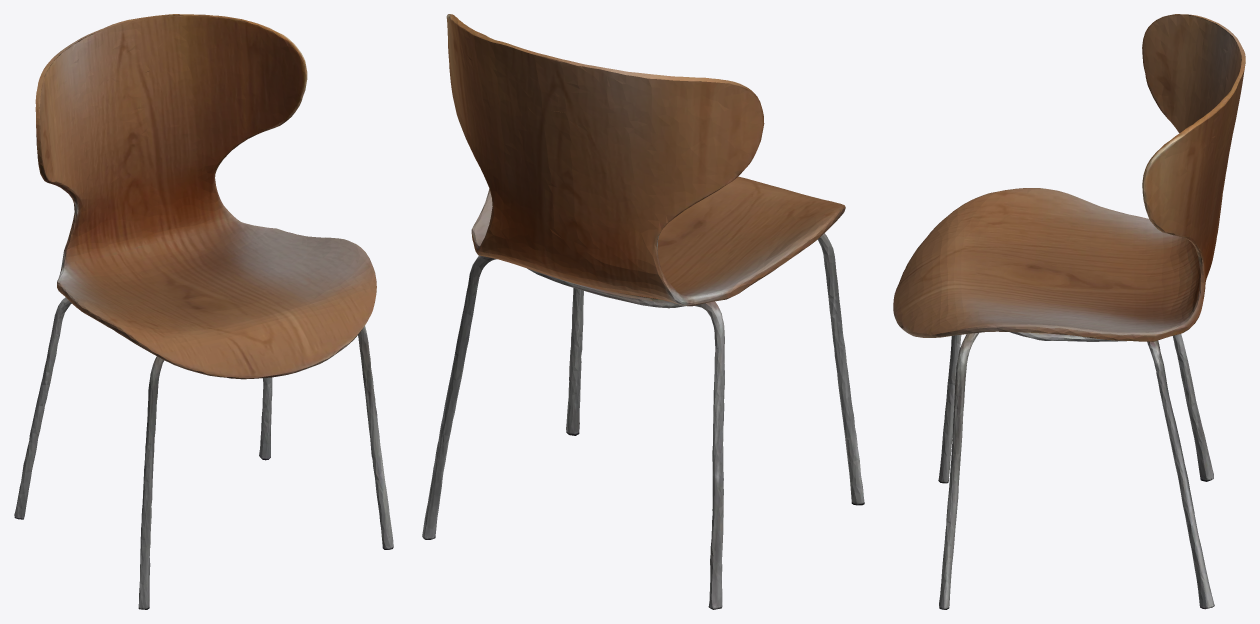
Rendered from ast_8ac797d254fe.glb.
3 views of the same model, side by side, from view 1: azimuth 30°, elevation 25°; view 2: azimuth 150°, elevation 25°; view 3: azimuth 270°, elevation 25° (orthographic). The views are drawn at different scales.
Visible parts, largest first — view 1: geometry_0; view 2: geometry_0; view 3: geometry_0.
Boxes of the visible parts, x1,y1,x2,y2 form: geometry_0: (14, 14, 393, 609); geometry_0: (422, 14, 864, 609); geometry_0: (893, 14, 1245, 609).
Size of the model in its own units: 0.6174 by 0.9931 by 0.6539.
Materials: 1 (1 with a texture image).
